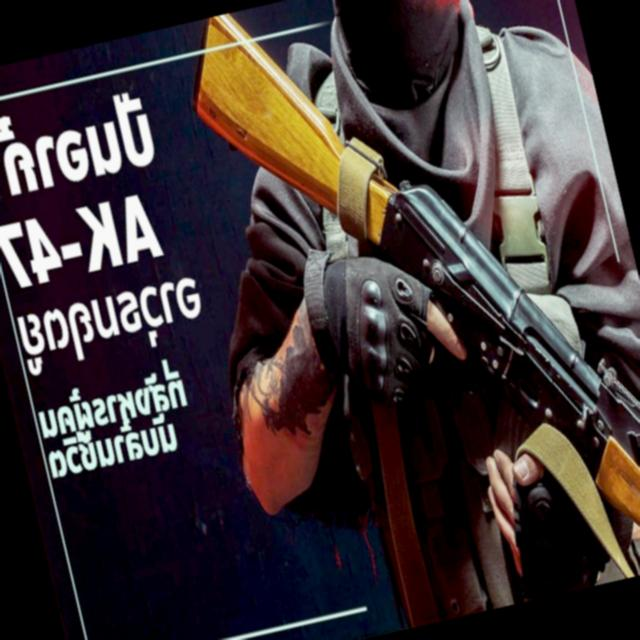ak: (175, 0, 640, 622)
